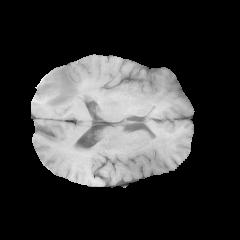glioma: (35, 54, 109, 107)
